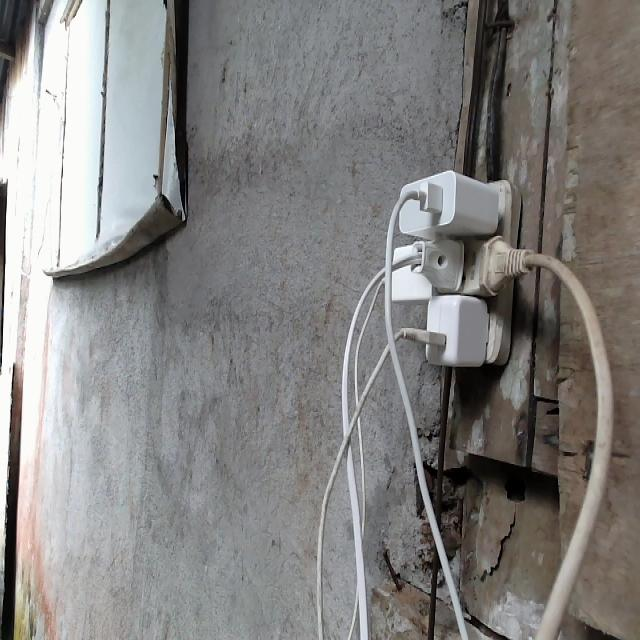-: (363, 168, 546, 368)
